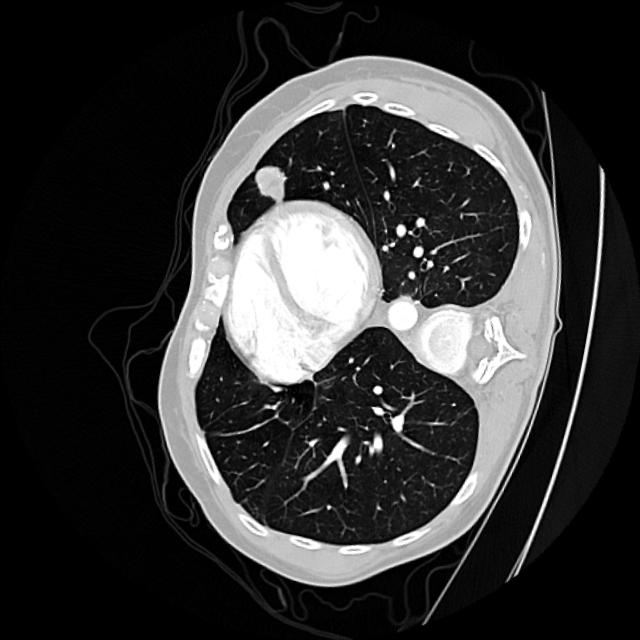nodule: (228, 142, 310, 224)
